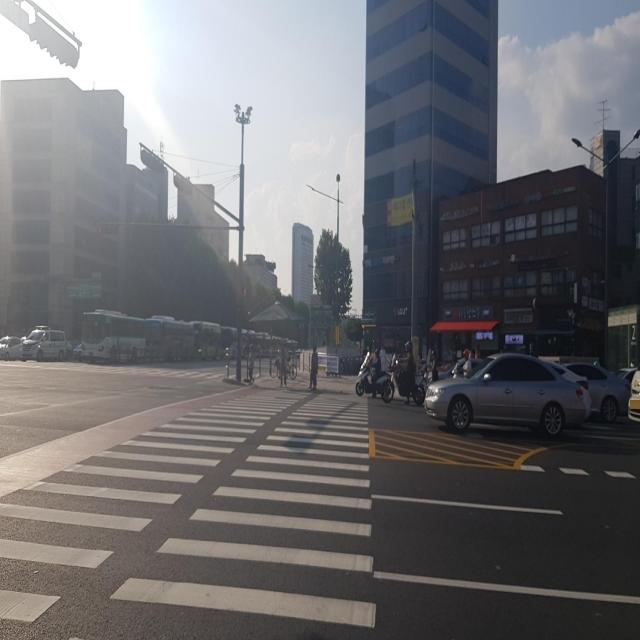횡단보도: (0, 386, 379, 640)
